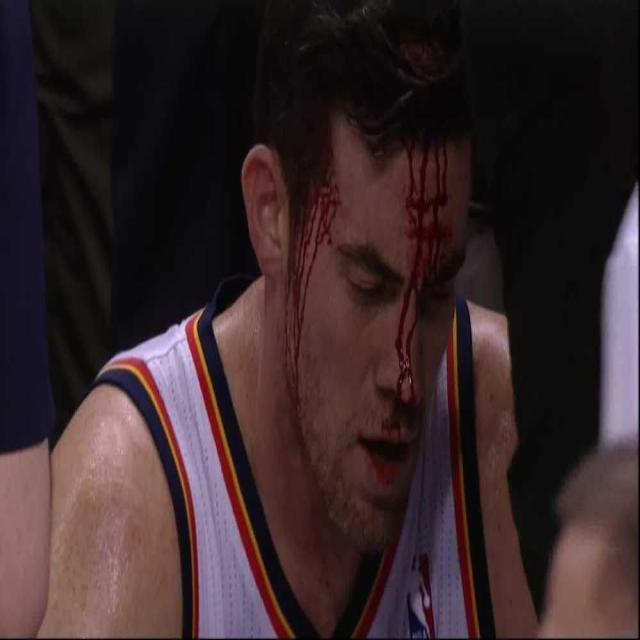flood: (375, 114, 473, 506), (255, 160, 328, 511)
